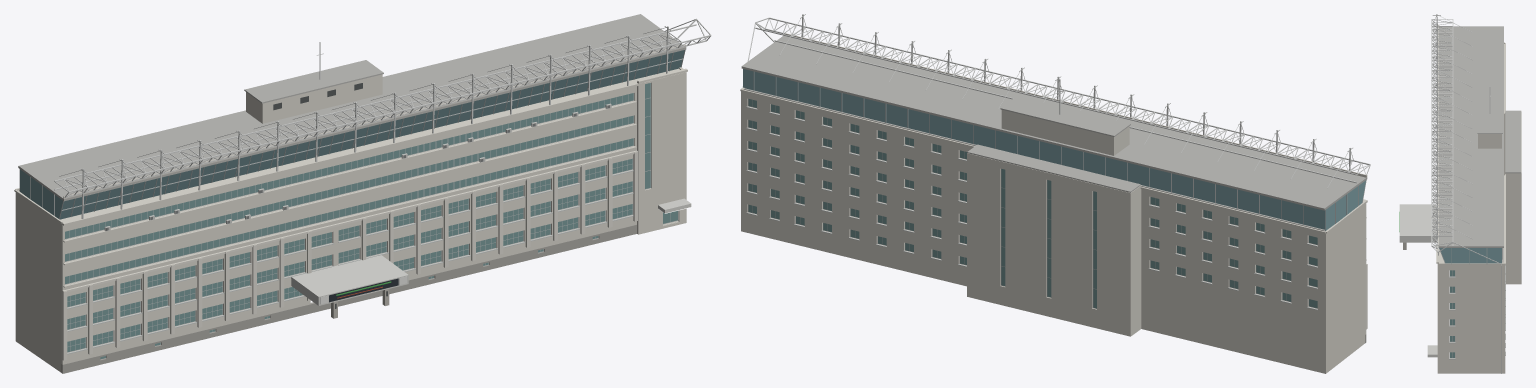
3 views of the same model, side by side, from view 1: azimuth 30°, elevation 25°; view 2: azimuth 150°, elevation 25°; view 3: azimuth 270°, elevation 25° (orthographic). The views are drawn at different scales.
Visible parts, largest first — view 1: jinri__paint-wall, jinri__glass, jinri__roof, jinri__frame, jinri__glass-top, jinri__steel, jinri__pilaster, jinri__plinth, jinri__canopy, jinri__mullion; view 2: jinri__paint-wall, jinri__roof, jinri__glass-top, jinri__steel, jinri__glass, jinri__frame, jinri__mullion; view 3: jinri__roof, jinri__paint-wall, jinri__steel, jinri__canopy, jinri__glass-top, jinri__frame, jinri__glass.
Part boxes in pixels (x1,y1,x2,y2): jinri__paint-wall: [14, 44, 687, 372]; jinri__glass: [65, 83, 677, 359]; jinri__roof: [18, 14, 686, 201]; jinri__frame: [65, 83, 678, 359]; jinri__glass-top: [20, 50, 684, 219]; jinri__steel: [54, 18, 711, 218]; jinri__pilaster: [62, 150, 637, 360]; jinri__plinth: [61, 224, 636, 373]; jinri__canopy: [291, 198, 691, 305]; jinri__mullion: [19, 49, 685, 219]; jinri__paint-wall: [740, 33, 1367, 373]; jinri__roof: [741, 35, 1367, 231]; jinri__glass-top: [743, 69, 1365, 230]; jinri__steel: [742, 14, 1370, 188]; jinri__glass: [748, 99, 1317, 308]; jinri__frame: [746, 98, 1317, 310]; jinri__mullion: [753, 71, 1366, 231]; jinri__roof: [1438, 26, 1521, 262]; jinri__paint-wall: [1436, 24, 1521, 373]; jinri__steel: [1431, 14, 1501, 264]; jinri__canopy: [1399, 204, 1437, 357]; jinri__glass-top: [1439, 248, 1501, 263]; jinri__frame: [1449, 264, 1505, 373]; jinri__glass: [1450, 270, 1454, 357].
Bounding box in the file's own units: 108 × 37.45 × 24.32.
